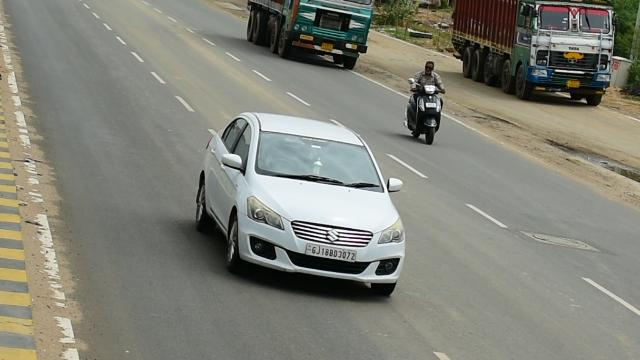Without Helmet: (422, 58, 436, 74)
